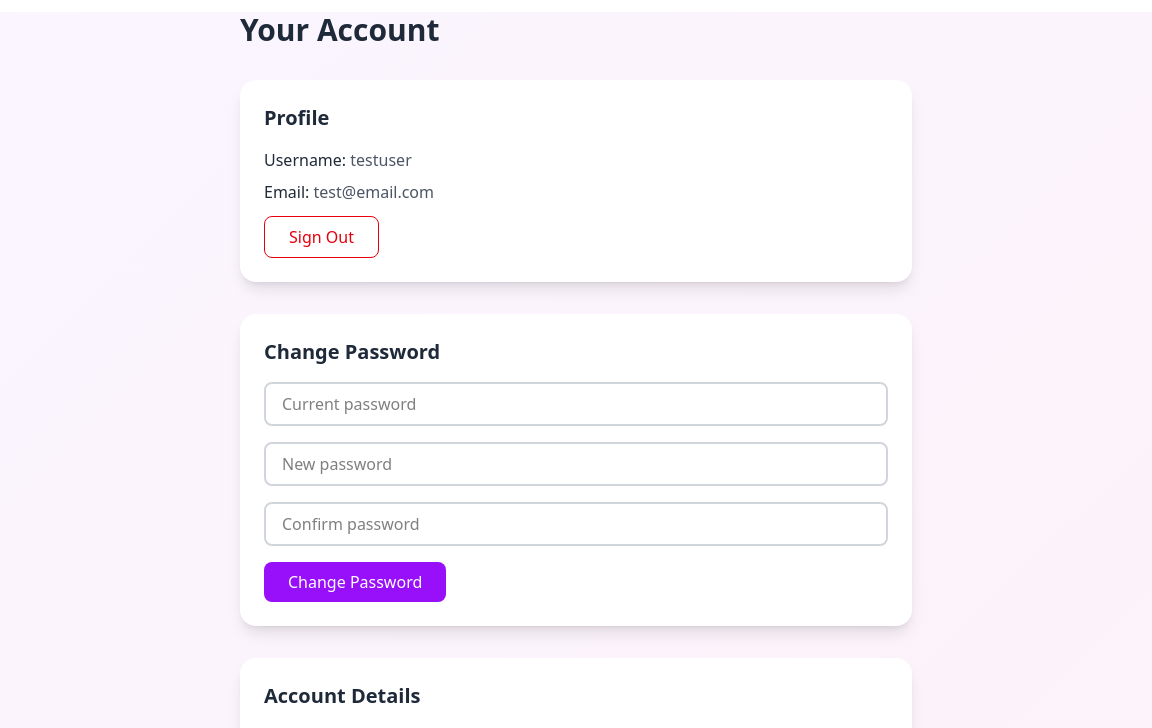
Test: DashboardPage › changes the password successfully
Type "OldPassword123!" into the password field with placeholder "Current password".
click(576, 404); type("OldPassword123!")  # box [264,382,888,426]
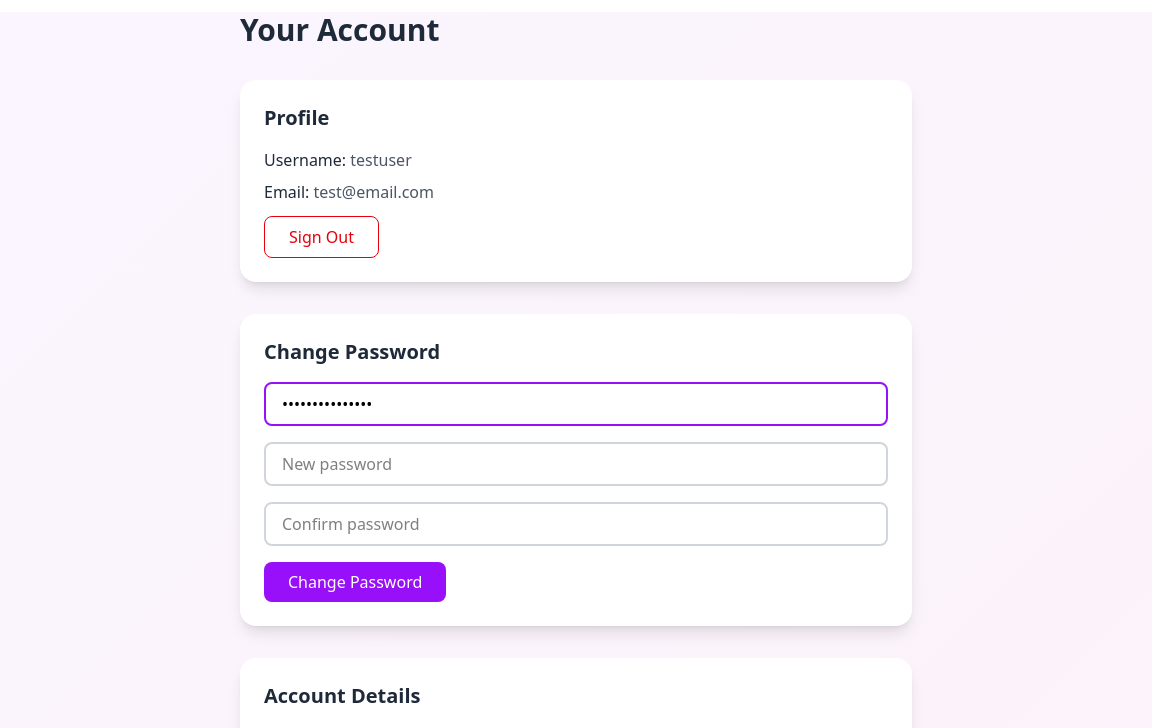
Type "NewPassword123!" into the password field with placeholder "New password".
click(576, 464); type("NewPassword123!")  # box [264,442,888,486]
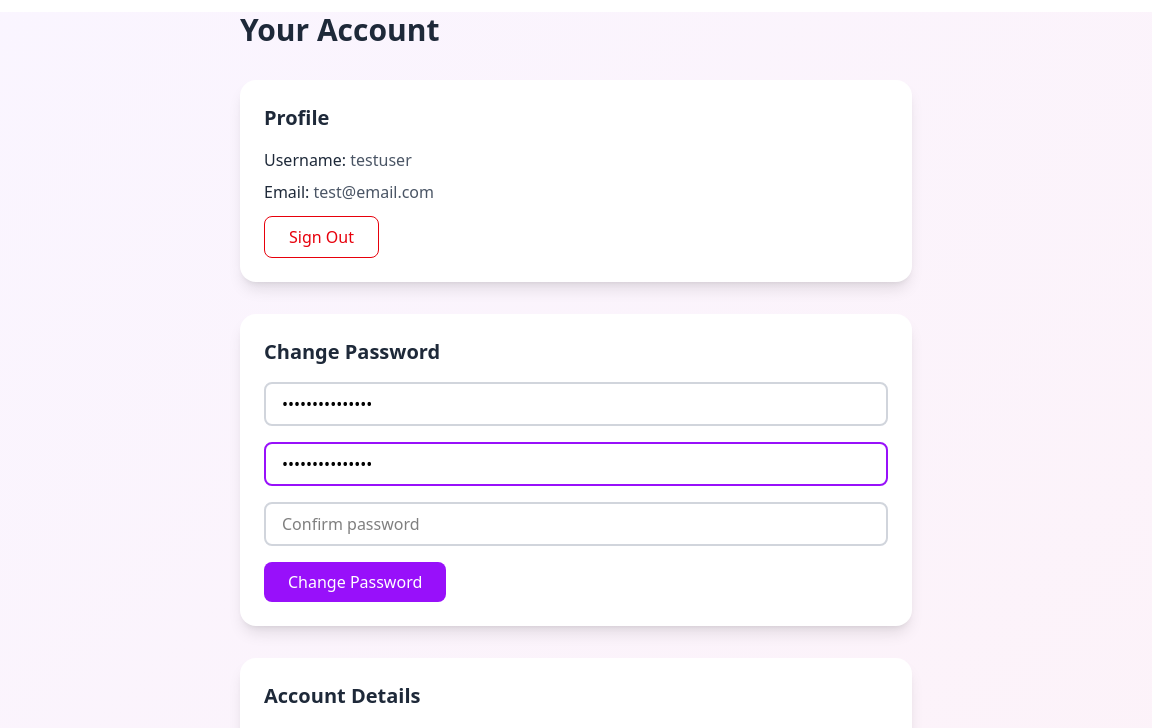
Type "NewPassword123!" into the password field with placeholder "Confirm password".
click(576, 524); type("NewPassword123!")  # box [264,502,888,546]
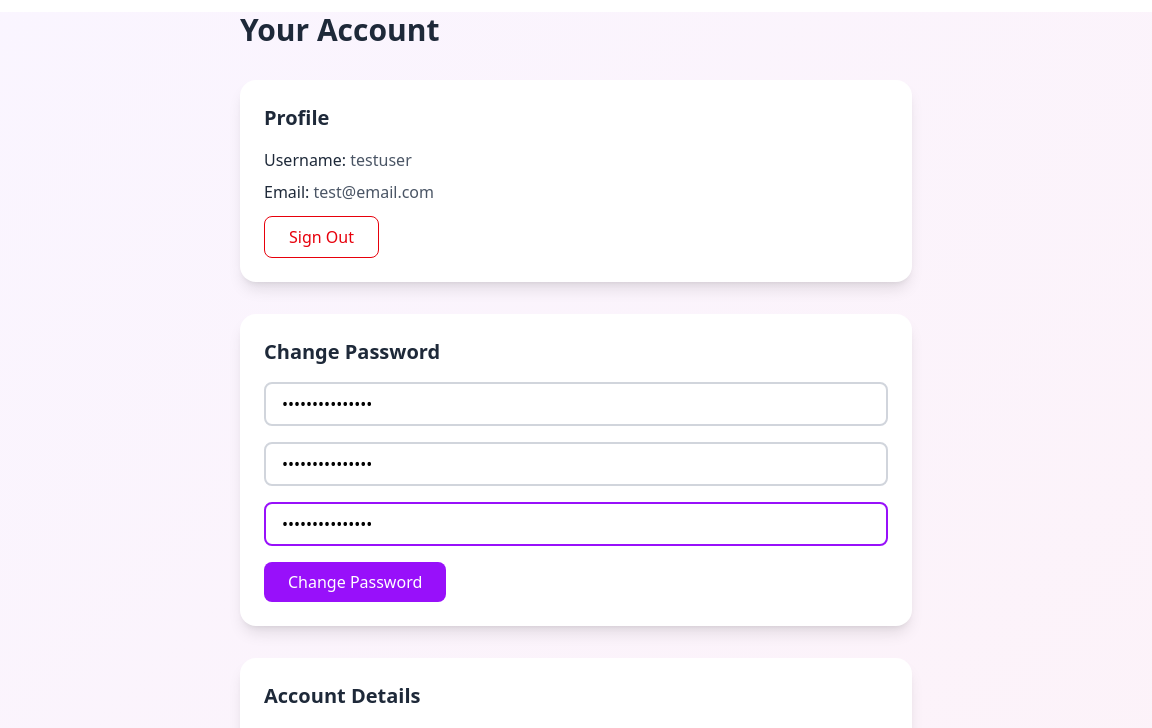
Click the button "Change Password".
click(355, 582)  # box [264,562,446,602]
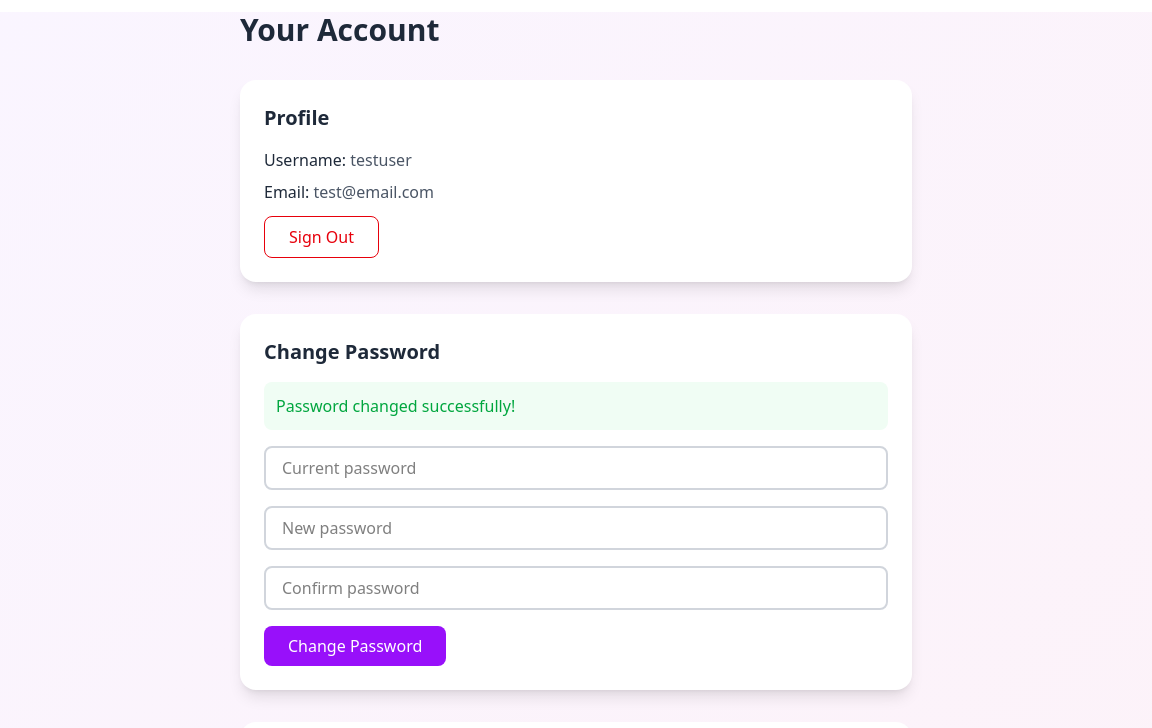
Result: the text "Password changed successfully!" is shown at [264,382,888,430]
Result: the password field with placeholder "Current password" is empty at [264,446,888,490]
Result: the password field with placeholder "New password" is empty at [264,506,888,550]
